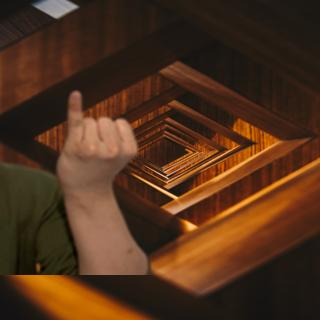FINE: (52, 86, 141, 204)
